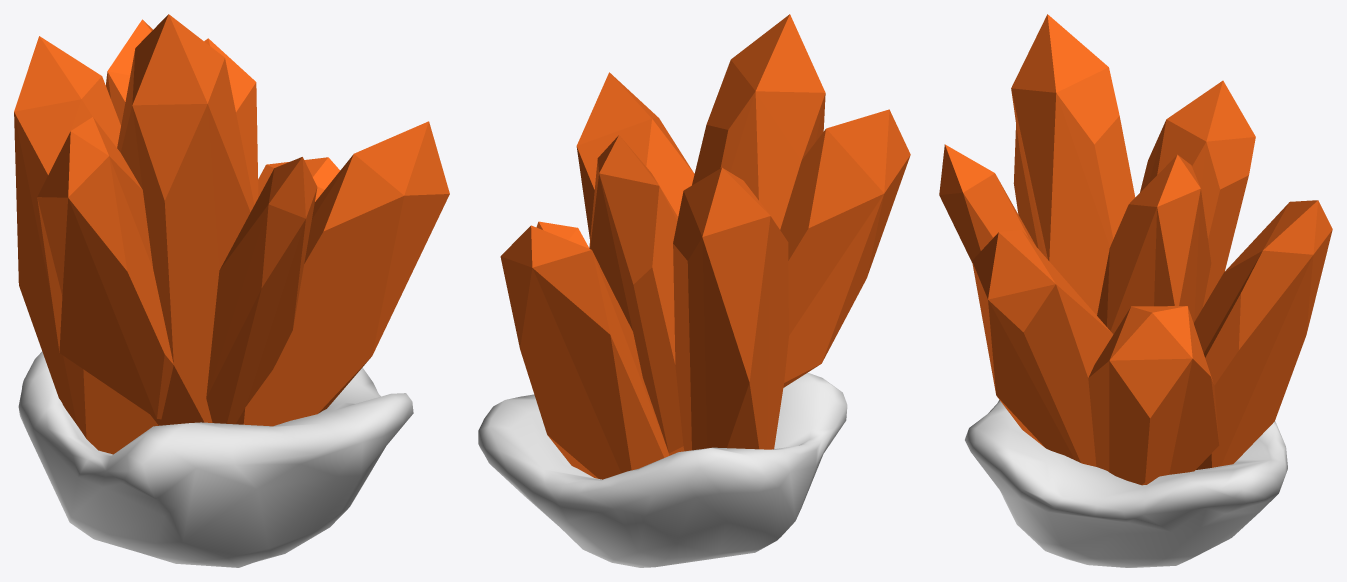
Rendered from Minerai.fbx.
The picture shows the model from 3 angles, left to right: view 1: azimuth 30°, elevation 25°; view 2: azimuth 150°, elevation 25°; view 3: azimuth 270°, elevation 25°; orthographic projection. The views are drawn at different scales.
Parts seen in each view (by area): view 1: minerai, base.001; view 2: minerai, base.001; view 3: minerai, base.001.
Part boxes in pixels (x1,y1,x2,y2): minerai: (14, 14, 449, 454); base.001: (18, 351, 413, 567); minerai: (500, 14, 910, 479); base.001: (478, 372, 847, 567); minerai: (939, 14, 1332, 485); base.001: (965, 400, 1287, 567).
Bounding box in the file's own units: 220 × 336 × 238.
